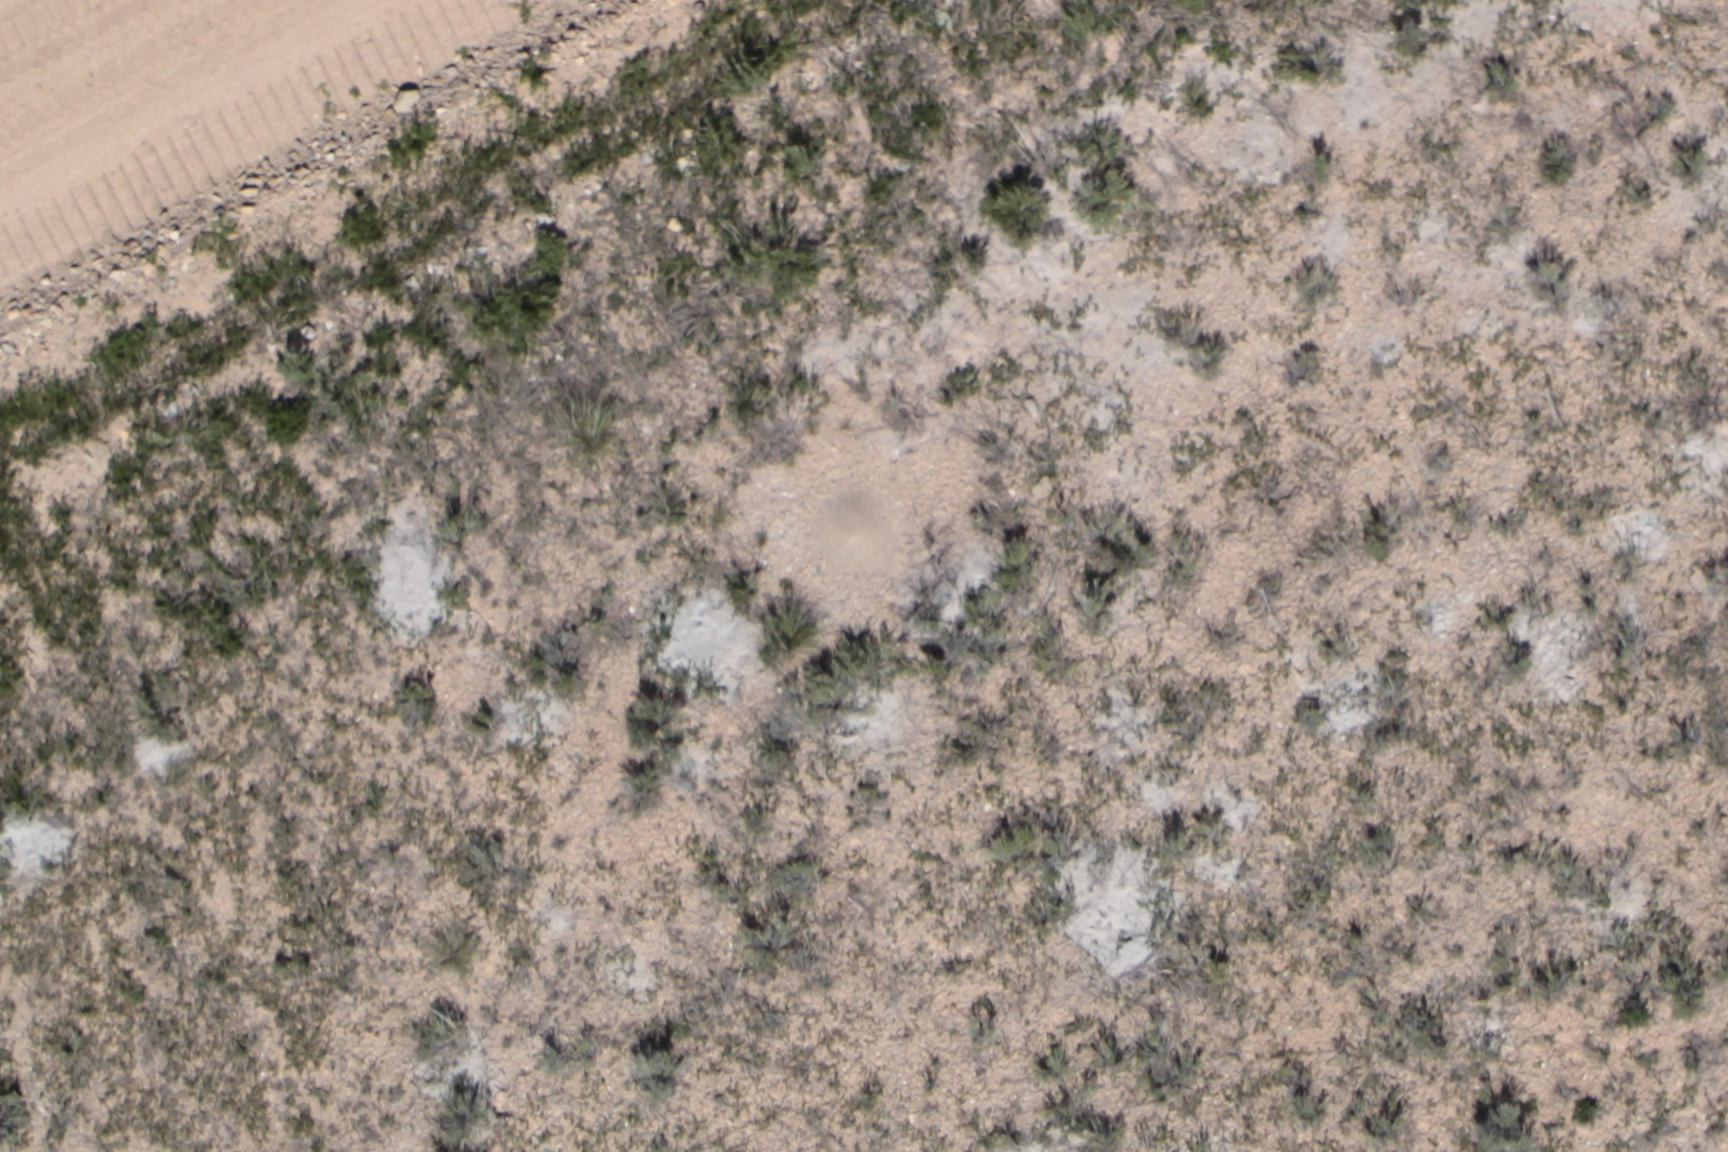burrow: (786, 478, 914, 600)
